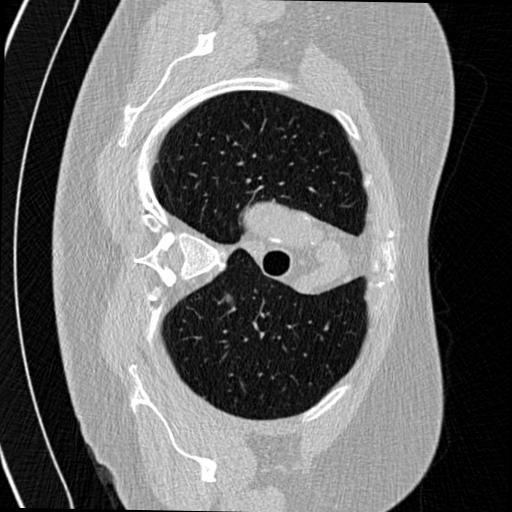nodule: (224, 294, 237, 307)
